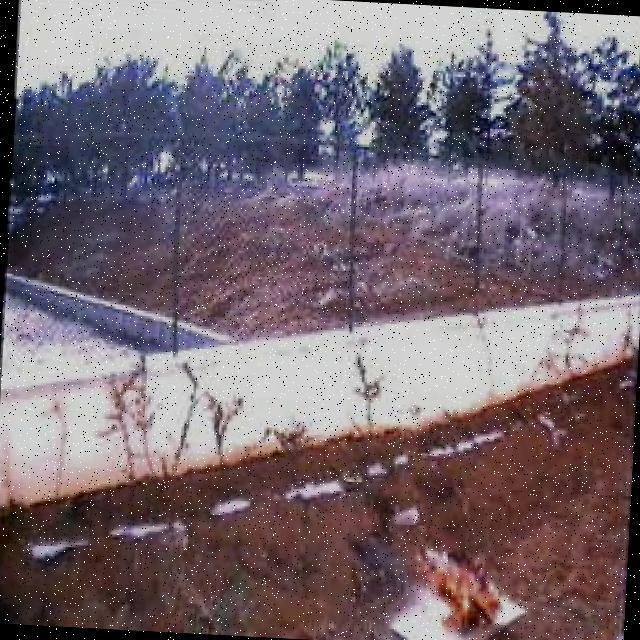Fire: (416, 558, 505, 639)
